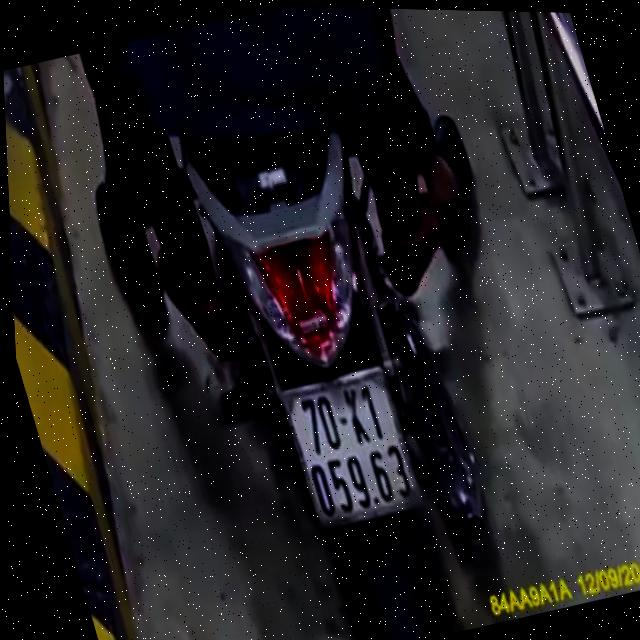motorcycle: (105, 57, 549, 640)
plate: (266, 356, 433, 541)
